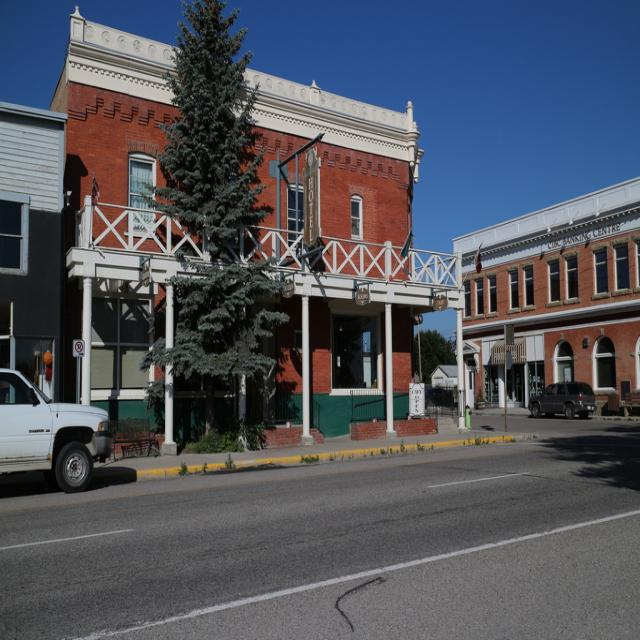car: (530, 384, 597, 417)
